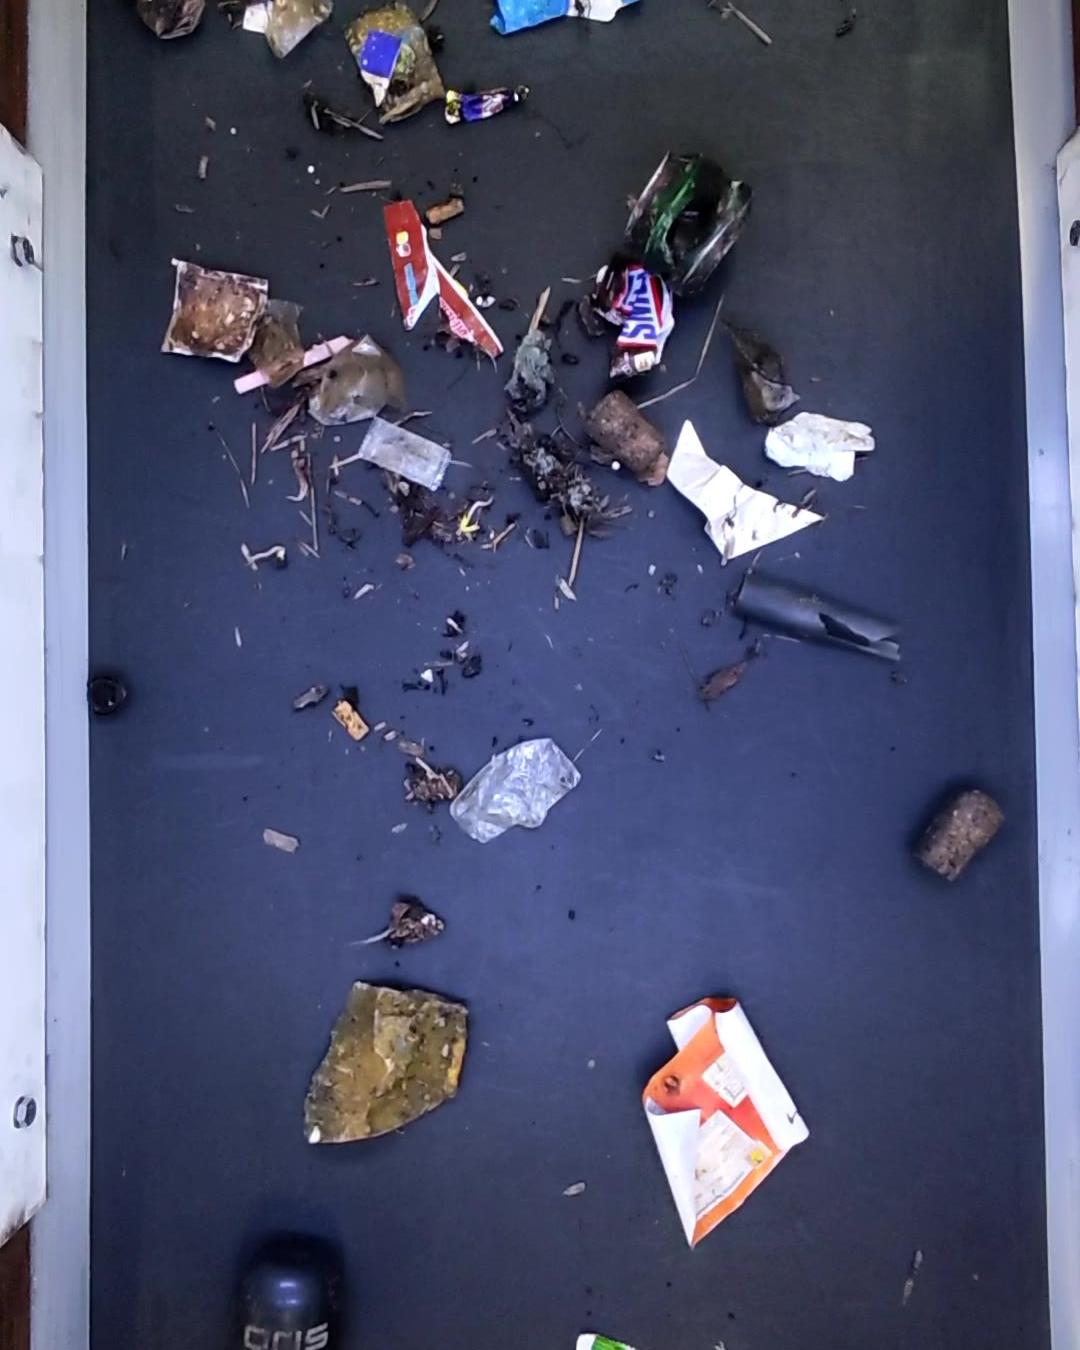Drankblikjes: (622, 145, 760, 301)
Plastic folies of stukken daarvan 2.5- 50 cm: (666, 418, 820, 568), (447, 735, 580, 843), (309, 342, 412, 428), (766, 412, 877, 486), (358, 422, 450, 488), (247, 296, 304, 382), (262, 1, 332, 60)
Snoep snack en chips verpakkingen: (375, 203, 504, 364), (587, 257, 683, 382), (443, 76, 528, 128)
